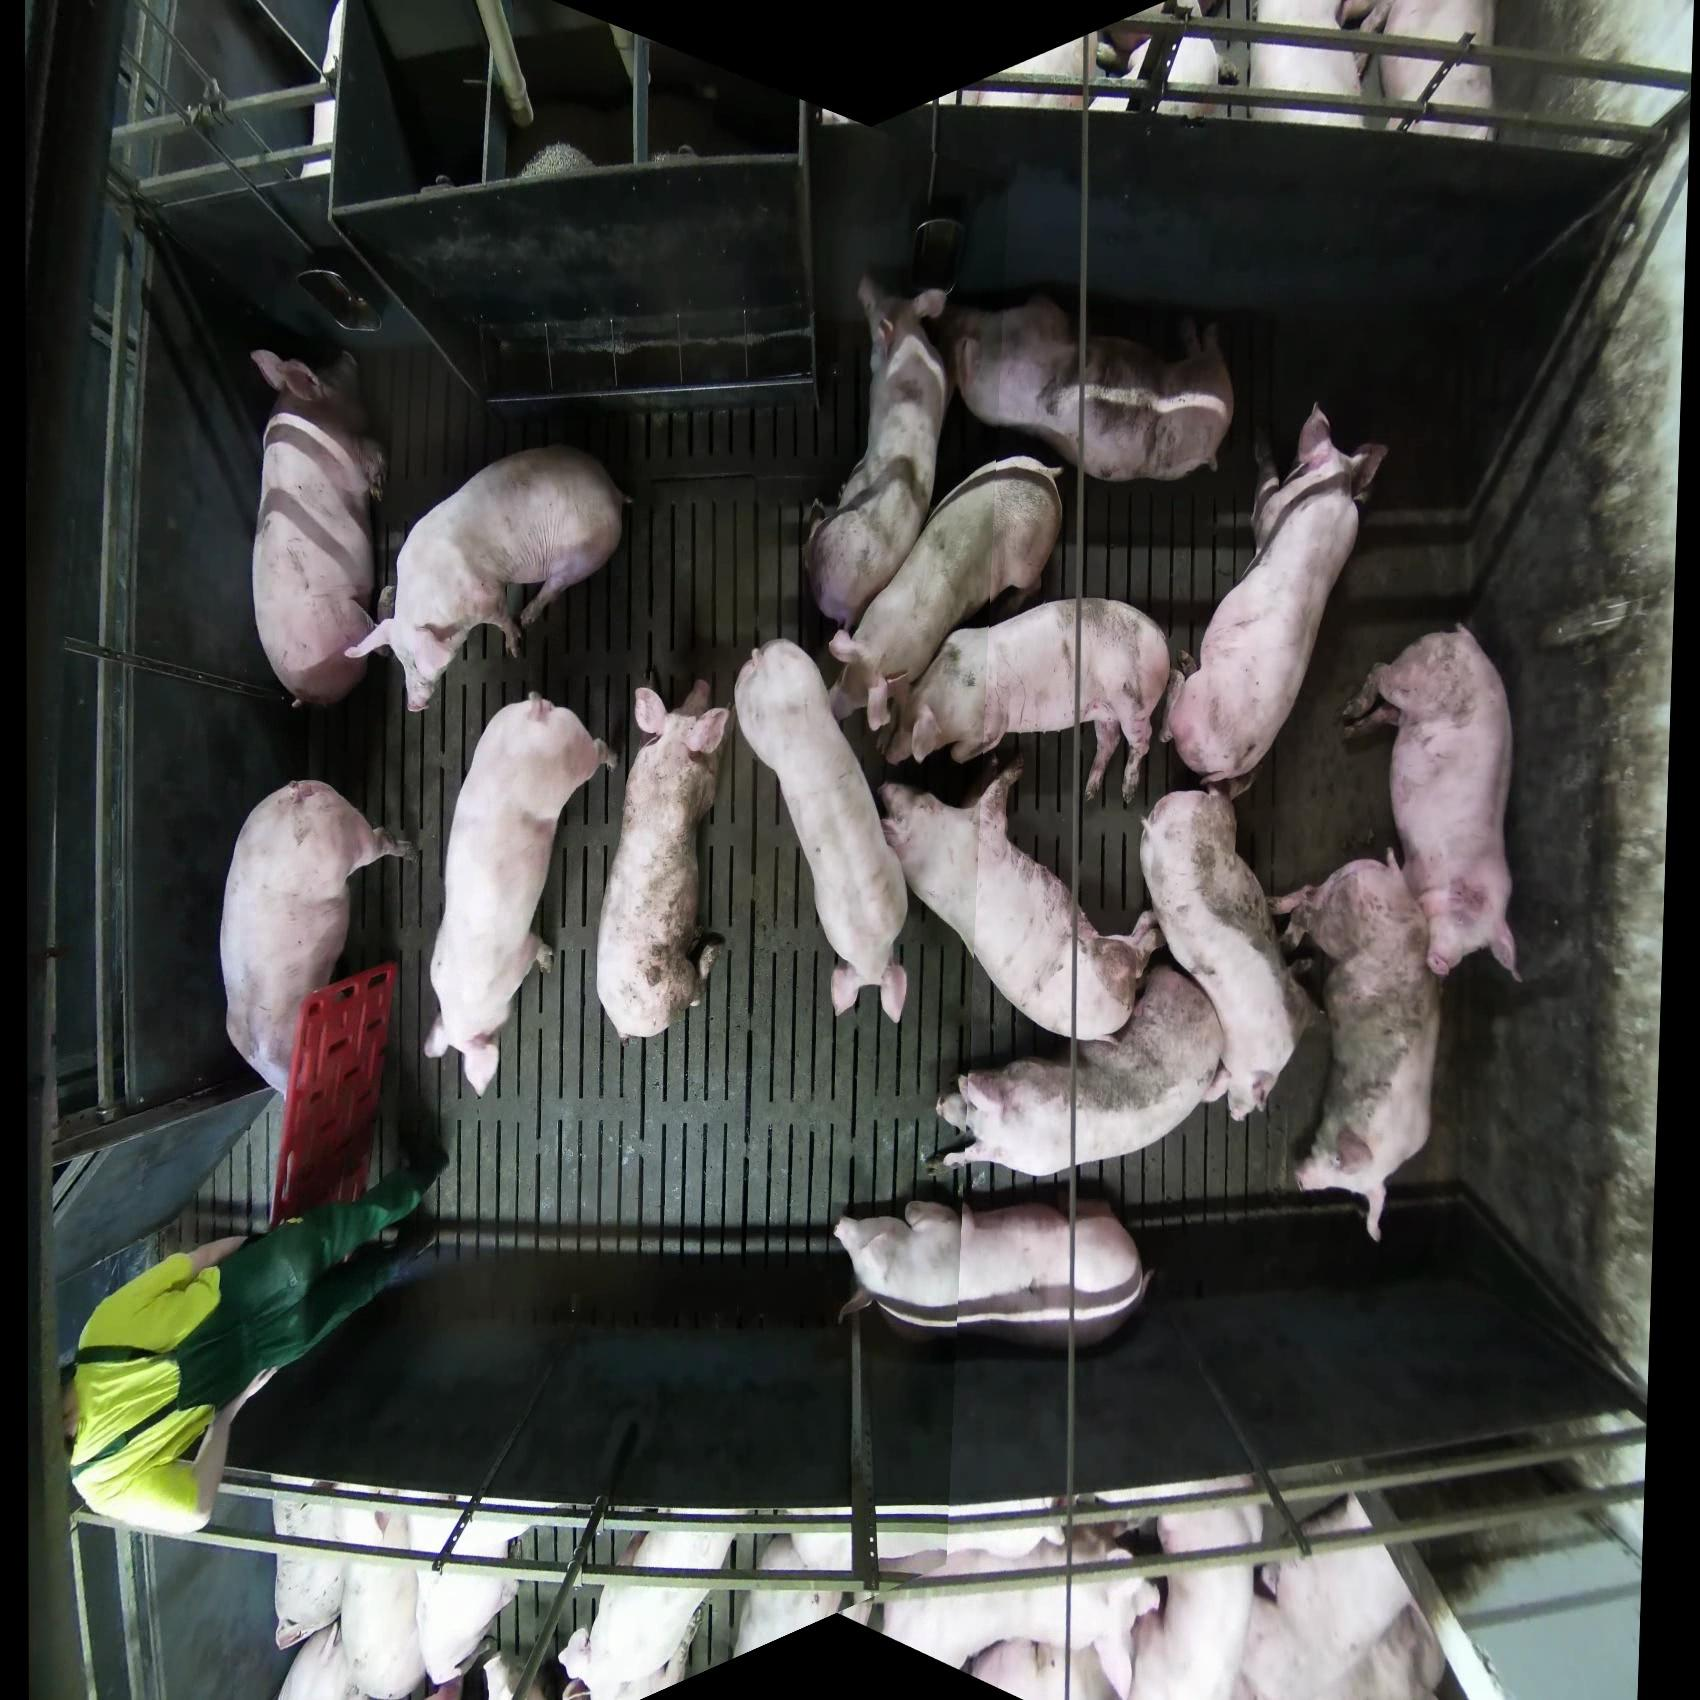pig: (1161, 400, 1391, 802), (876, 758, 1165, 1045), (422, 691, 616, 1099), (346, 443, 632, 713), (1270, 850, 1446, 1243), (733, 638, 911, 1024), (826, 454, 1066, 736), (1338, 621, 1523, 985), (218, 778, 417, 1103), (935, 961, 1230, 1180), (884, 596, 1174, 810), (1138, 788, 1312, 1123), (947, 292, 1236, 484), (803, 274, 951, 640), (248, 346, 388, 710), (832, 1190, 1149, 1348), (595, 676, 732, 1042), (272, 1501, 523, 1700), (557, 1525, 737, 1699), (1120, 1502, 1267, 1699), (1353, 1, 1499, 142), (953, 25, 1150, 115), (1246, 1, 1377, 129), (733, 1530, 852, 1662), (1102, 1, 1227, 122)
worker: (62, 1141, 451, 1539)
